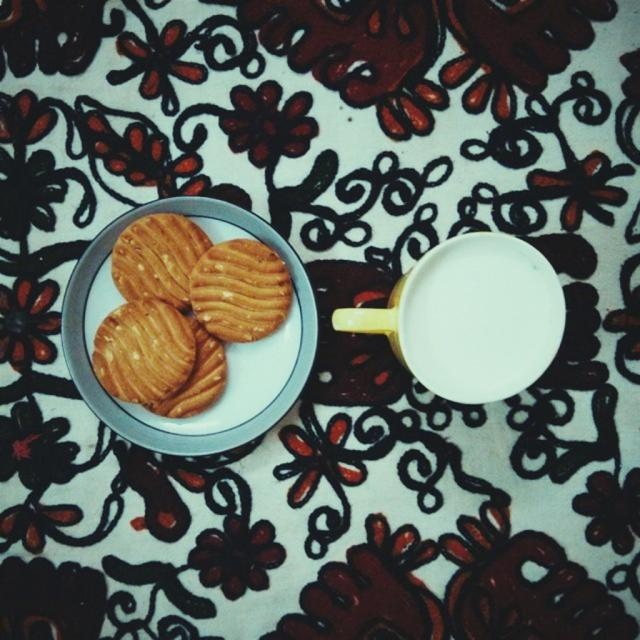Milk: (401, 245, 560, 400)
